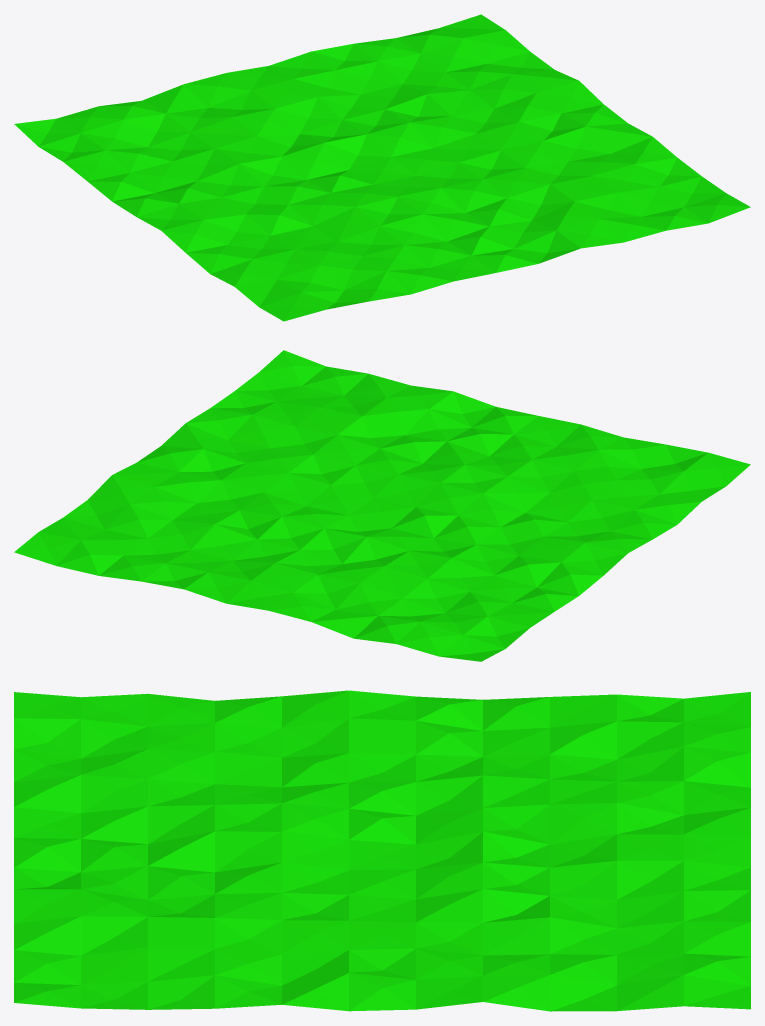
3 views of the same model, one above another, from view 1: azimuth 30°, elevation 25°; view 2: azimuth 150°, elevation 25°; view 3: azimuth 270°, elevation 25° (orthographic). The views are drawn at different scales.
Parts seen in each view (by area): view 1: Plane; view 2: Plane; view 3: Plane.
Boxes of the visible parts, x1,y1,x2,y2 form: Plane: (14,14,750,321); Plane: (14,350,750,661); Plane: (14,690,750,1011).
Size of the model in its own units: 2 by 0.0399 by 2.
